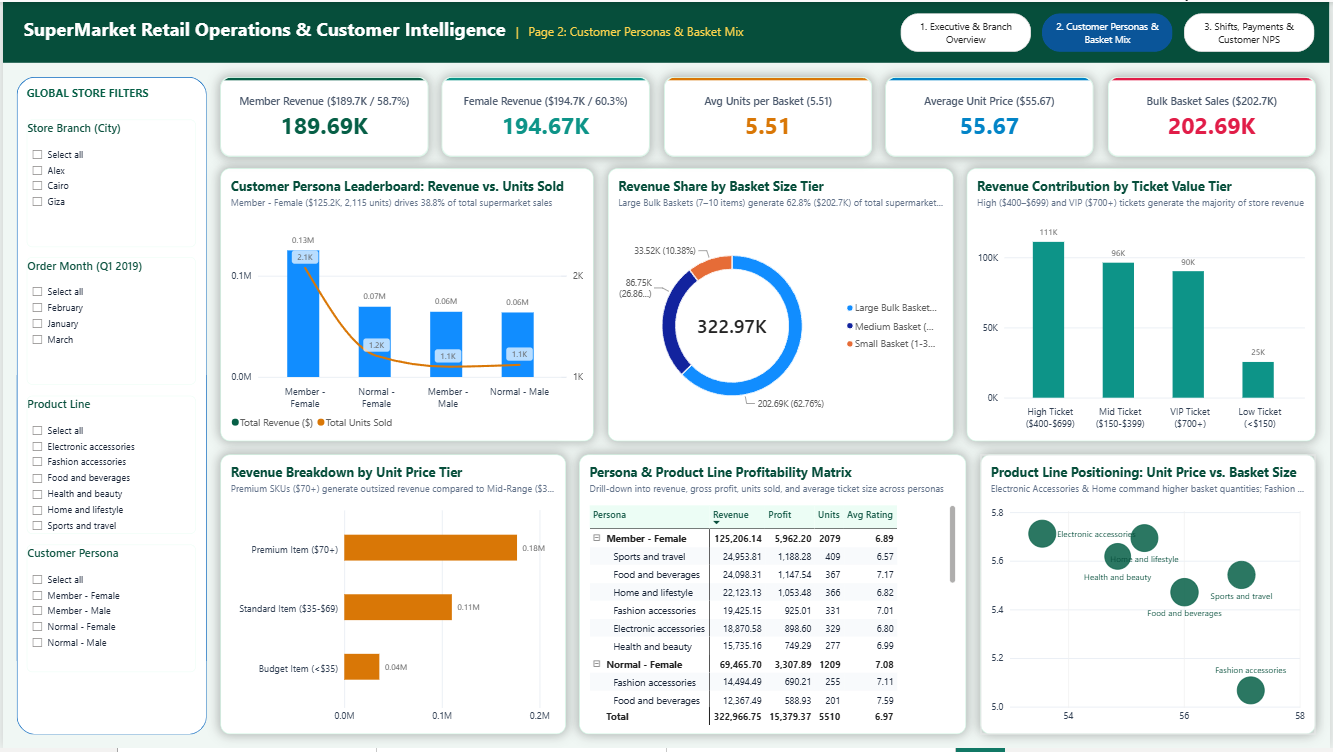

The dashboard page shown, as its layout file describes it:
{"tool":"powerbi","page":{"name":"2. Customer Personas & Basket Mix","canvas":[1920,1080],"ordinal":1},"visuals":[{"type":"shape","box":[0,0,1920,88],"z":0},{"type":"shape","box":[20,108,275,952],"z":1000},{"type":"textbox","box":[20,6,1260,78],"z":2000},{"type":"textbox","box":[35,120,245,42],"z":2500},{"type":"lineClusteredColumnComboChart","title":"Customer Persona Leaderboard: Revenue vs. Units Sold","fields":{"Category":["Clean_SuperMarket.Customer Persona"],"Y":["Sum(Clean_SuperMarket.Sales)"],"Y2":["Sum(Clean_SuperMarket.Quantity)"]},"box":[315,240,540,395],"z":4000},{"type":"donutChart","title":"Revenue Share by Basket Size Tier","fields":{"Category":["Clean_SuperMarket.Basket Size Tier"],"Y":["Sum(Clean_SuperMarket.Sales)"]},"box":[875,240,500,395],"z":4500},{"type":"clusteredColumnChart","title":"Revenue Contribution by Ticket Value Tier","fields":{"Category":["Clean_SuperMarket.Ticket Value Tier"],"Y":["Sum(Clean_SuperMarket.Sales)"]},"box":[1395,240,505,395],"z":5000},{"type":"clusteredBarChart","title":"Revenue Breakdown by Unit Price Tier","fields":{"Category":["Clean_SuperMarket.Unit Price Tier"],"Y":["Sum(Clean_SuperMarket.Sales)"]},"box":[315,655,500,405],"z":5200},{"type":"pivotTable","title":"Persona & Product Line Profitability Matrix","fields":{"Rows":["Clean_SuperMarket.Customer Persona","Clean_SuperMarket.Product line"],"Values":["Sum(Clean_SuperMarket.Sales)","Sum(Clean_SuperMarket.Gross Profit)","Sum(Clean_SuperMarket.Quantity)","Avg(Clean_SuperMarket.Rating)"]},"box":[835,655,560,405],"z":5400},{"type":"scatterChart","title":"Product Line Positioning: Unit Price vs. Basket Size","fields":{"Category":["Clean_SuperMarket.Product line"],"X":["Avg(Clean_SuperMarket.Unit price)"],"Y":["Avg(Clean_SuperMarket.Quantity)"],"Size":["Sum(Clean_SuperMarket.Sales)"]},"box":[1415,655,485,405],"z":5600},{"type":"cardVisual","title":"Member Revenue ($189.7K / 58.7%)","fields":{"Data":["Sum(Clean_SuperMarket.Sales)"]},"box":[315,108,301,115],"z":6000},{"type":"cardVisual","title":"Female Revenue ($194.7K / 60.3%)","fields":{"Data":["Sum(Clean_SuperMarket.Sales)"]},"box":[636,108,301,115],"z":6500},{"type":"cardVisual","title":"Avg Units per Basket (5.51)","fields":{"Data":["Avg(Clean_SuperMarket.Quantity)"]},"box":[957,108,301,115],"z":7000},{"type":"cardVisual","title":"Average Unit Price ($55.67)","fields":{"Data":["Avg(Clean_SuperMarket.Unit price)"]},"box":[1278,108,301,115],"z":7500},{"type":"cardVisual","title":"Bulk Basket Sales ($202.7K)","fields":{"Data":["Sum(Clean_SuperMarket.Sales)"]},"box":[1599,108,301,115],"z":8000},{"type":"slicer","title":"Store Branch (City)","fields":{"Values":["Clean_SuperMarket.Branch"]},"box":[35,170,245,185],"z":11000},{"type":"slicer","title":"Order Month (Q1 2019)","fields":{"Values":["Clean_SuperMarket.Order Month"]},"box":[35,370,245,185],"z":11100},{"type":"slicer","title":"Product Line","fields":{"Values":["Clean_SuperMarket.Product line"]},"box":[35,570,245,200],"z":11200},{"type":"slicer","title":"Customer Persona","fields":{"Values":["Clean_SuperMarket.Customer Persona"]},"box":[35,785,245,185],"z":11300},{"type":"pageNavigator","box":[1300,16,600,56],"z":15000}]}

Visuals, with their boxes in screenshot pixels (x1, y1, x2, y2), scaled from the page's 1920x1080 canvas onto the 1333x752 screenshot:
shape: bbox(0, 0, 1332, 61)
shape: bbox(14, 75, 205, 738)
textbox: bbox(14, 4, 889, 58)
textbox: bbox(24, 84, 194, 113)
"Customer Persona Leaderboard: Revenue vs. Units Sold" lineClusteredColumnComboChart: bbox(219, 167, 594, 442)
"Revenue Share by Basket Size Tier" donutChart: bbox(607, 167, 955, 442)
"Revenue Contribution by Ticket Value Tier" clusteredColumnChart: bbox(969, 167, 1319, 442)
"Revenue Breakdown by Unit Price Tier" clusteredBarChart: bbox(219, 456, 566, 738)
"Persona & Product Line Profitability Matrix" pivotTable: bbox(580, 456, 969, 738)
"Product Line Positioning: Unit Price vs. Basket Size" scatterChart: bbox(982, 456, 1319, 738)
"Member Revenue ($189.7K / 58.7%)" cardVisual: bbox(219, 75, 428, 155)
"Female Revenue ($194.7K / 60.3%)" cardVisual: bbox(442, 75, 651, 155)
"Avg Units per Basket (5.51)" cardVisual: bbox(664, 75, 873, 155)
"Average Unit Price ($55.67)" cardVisual: bbox(887, 75, 1096, 155)
"Bulk Basket Sales ($202.7K)" cardVisual: bbox(1110, 75, 1319, 155)
"Store Branch (City)" slicer: bbox(24, 118, 194, 247)
"Order Month (Q1 2019)" slicer: bbox(24, 258, 194, 386)
"Product Line" slicer: bbox(24, 397, 194, 536)
"Customer Persona" slicer: bbox(24, 547, 194, 675)
pageNavigator: bbox(903, 11, 1319, 50)
